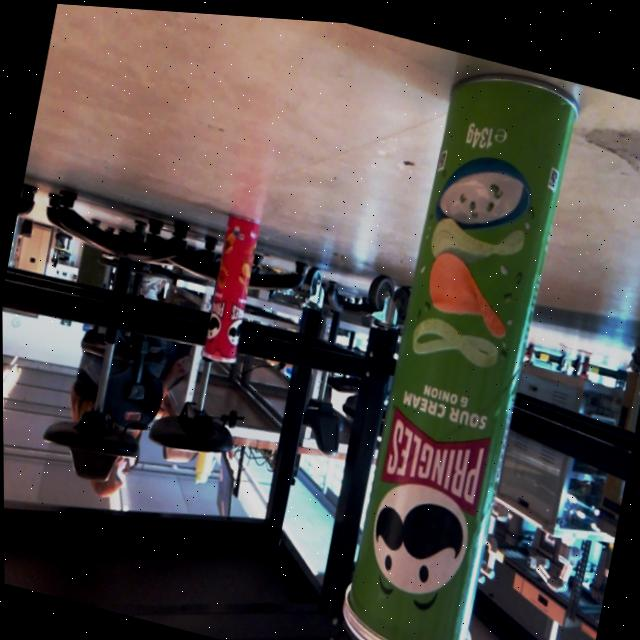greenpringles: (318, 34, 605, 640)
redpringles: (179, 191, 285, 388)
